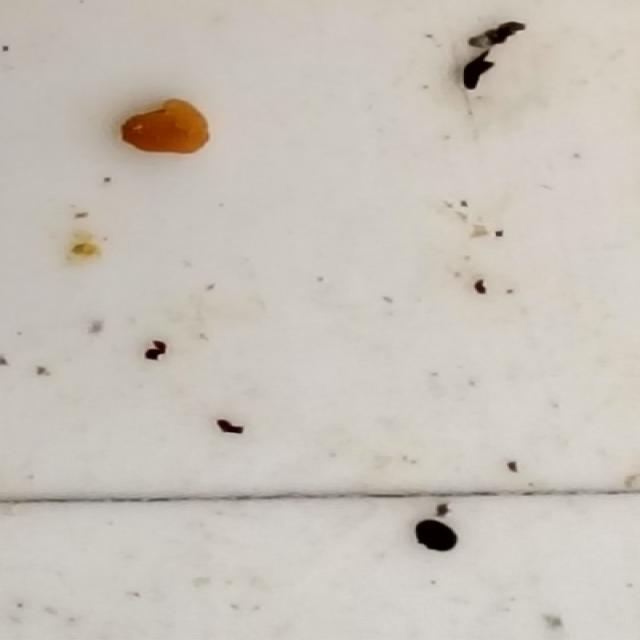varroa: (417, 520, 461, 554)
